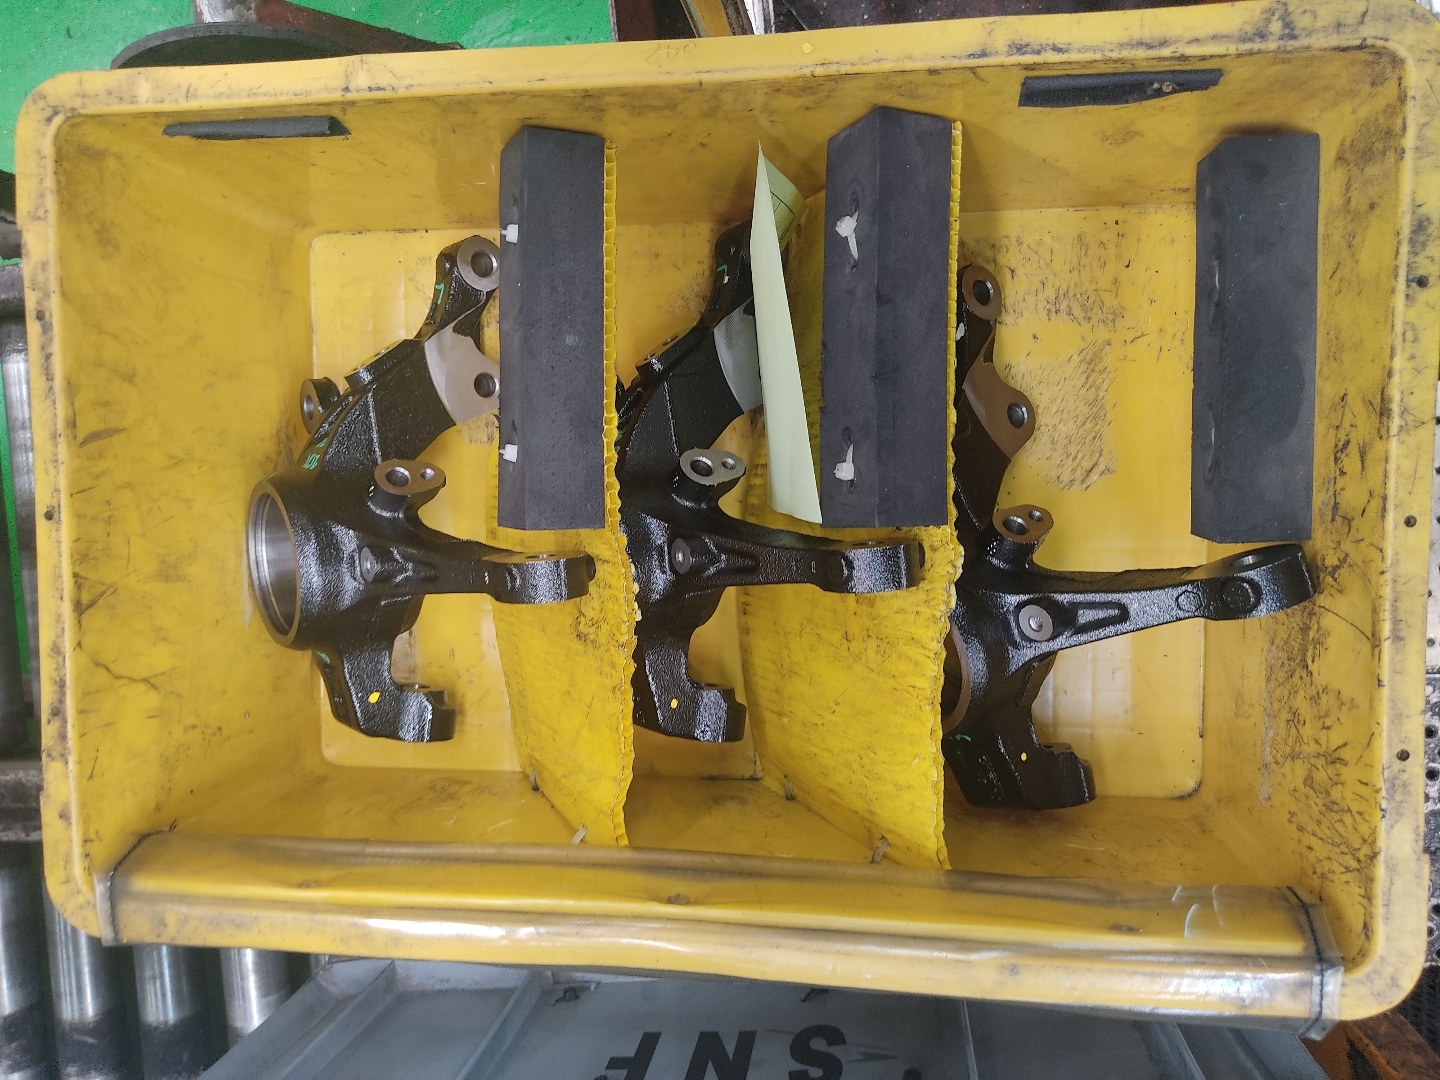abs-lh: (929, 243, 1325, 821), (232, 227, 601, 753), (605, 211, 927, 752)
